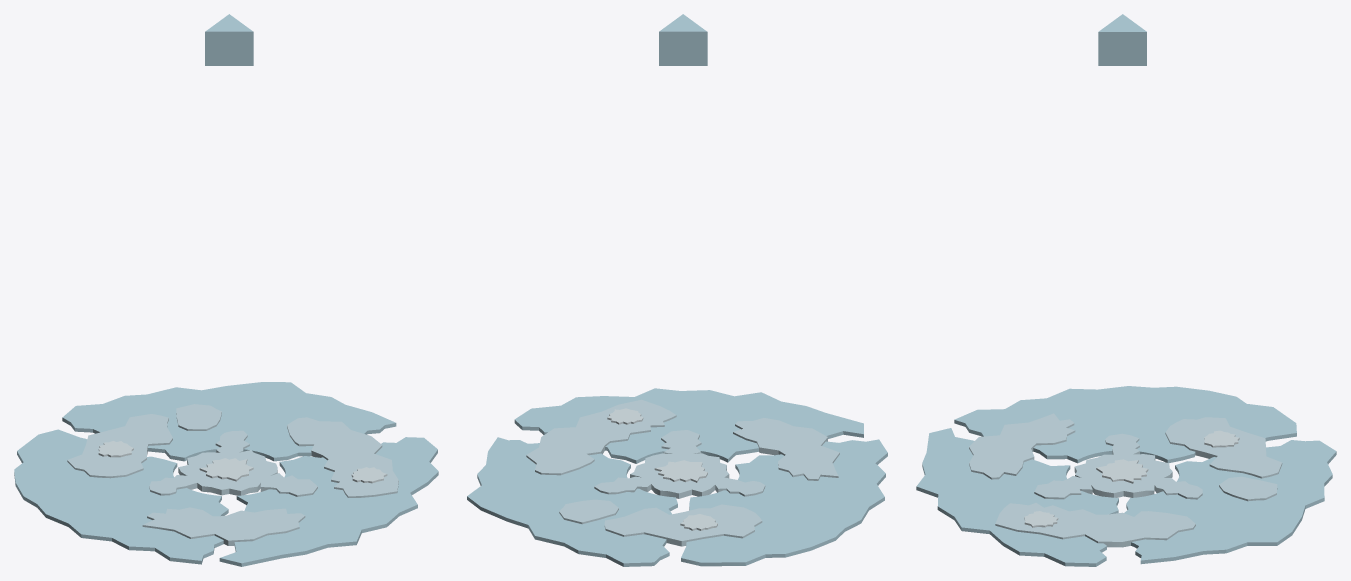
3 renders of one model, left to right at view 1: azimuth 30°, elevation 25°; view 2: azimuth 150°, elevation 25°; view 3: azimuth 270°, elevation 25°, orthographic.
Visible parts, largest first — view 1: polySurface5, polySurface7, pCylinder2, pCylinder1, pDisc6; view 2: polySurface5, polySurface7, pCylinder2, pCylinder1, pDisc6; view 3: polySurface5, polySurface7, pCylinder2, pCylinder1, pDisc6.
Boxes of the visible parts, x1,y1,x2,y2 form: polySurface5: [14, 382, 438, 566]; polySurface7: [67, 404, 398, 545]; pCylinder2: [149, 430, 317, 496]; pCylinder1: [205, 14, 253, 65]; pDisc6: [98, 441, 387, 483]; polySurface5: [467, 388, 887, 566]; polySurface7: [526, 399, 839, 546]; pCylinder2: [594, 430, 765, 498]; pCylinder1: [659, 14, 707, 65]; pDisc6: [607, 408, 717, 530]; polySurface5: [916, 386, 1336, 566]; polySurface7: [969, 413, 1282, 547]; pCylinder2: [1034, 433, 1202, 499]; pCylinder1: [1098, 14, 1146, 65]; pDisc6: [1024, 430, 1239, 527].
Bounding box in the file's own units: 104 × 123 × 104.
